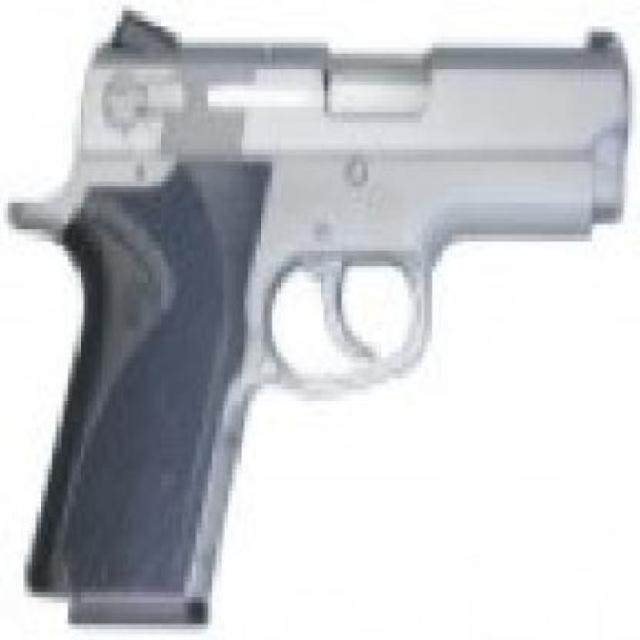guns: (11, 11, 624, 614)
